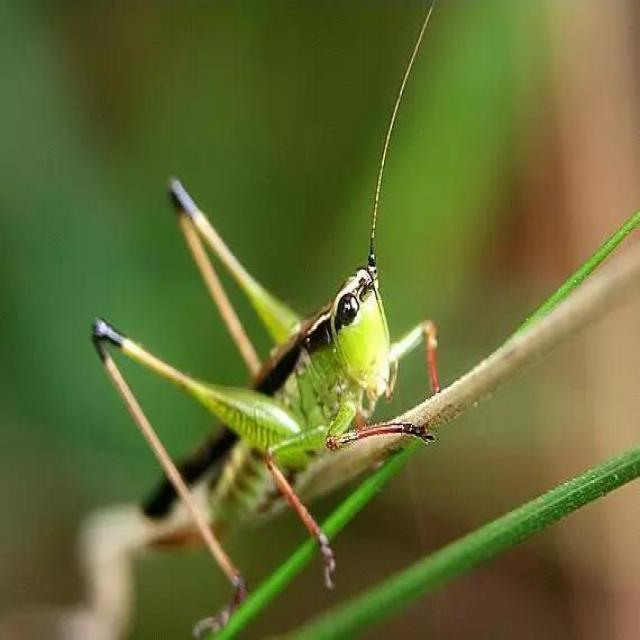ZhaMeng: (45, 167, 451, 571)
